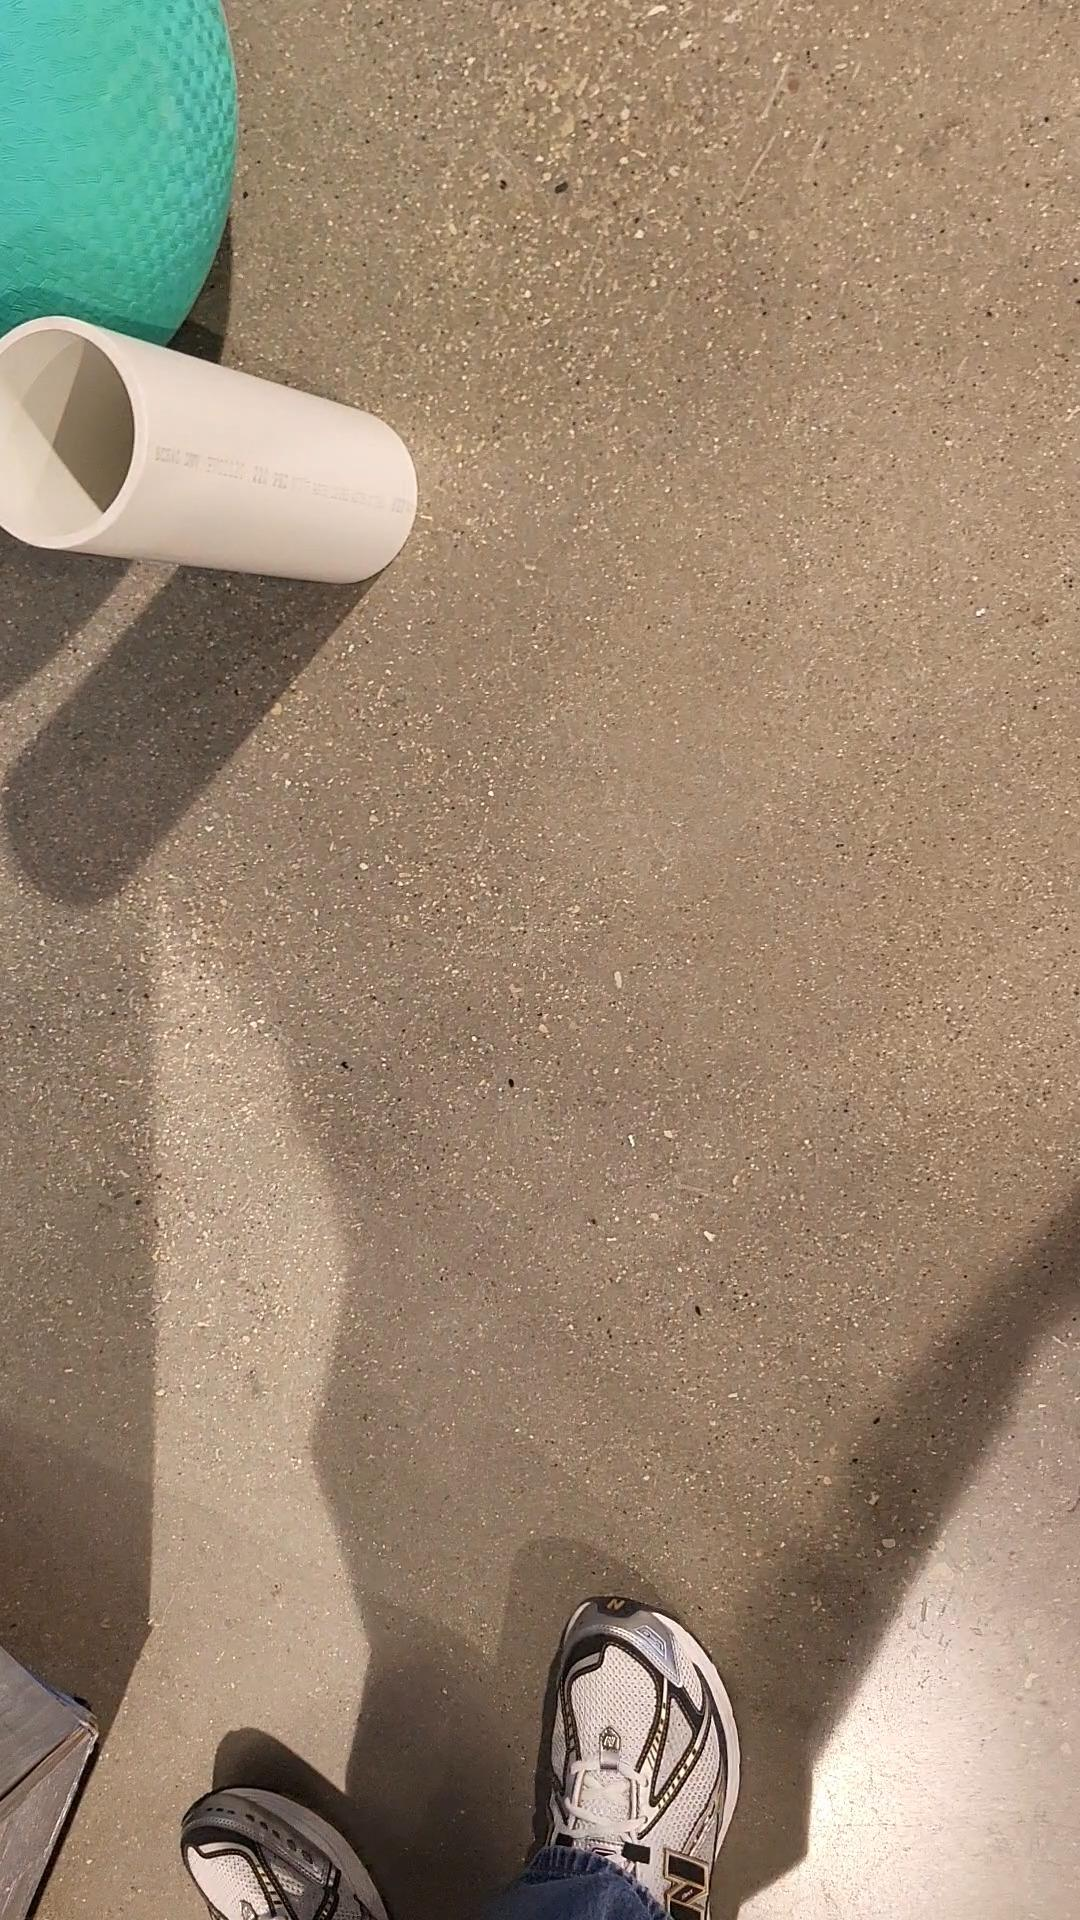algae: (0, 0, 235, 371)
coral: (0, 313, 419, 588)
